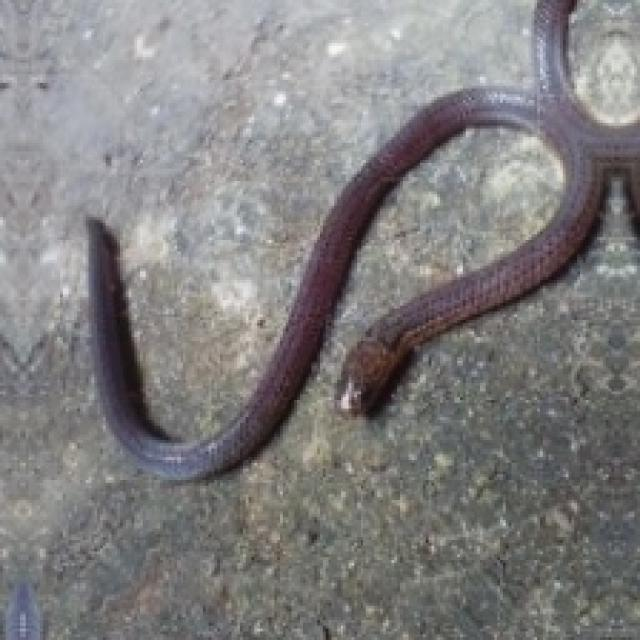gervais worm snake: (89, 0, 637, 477)
